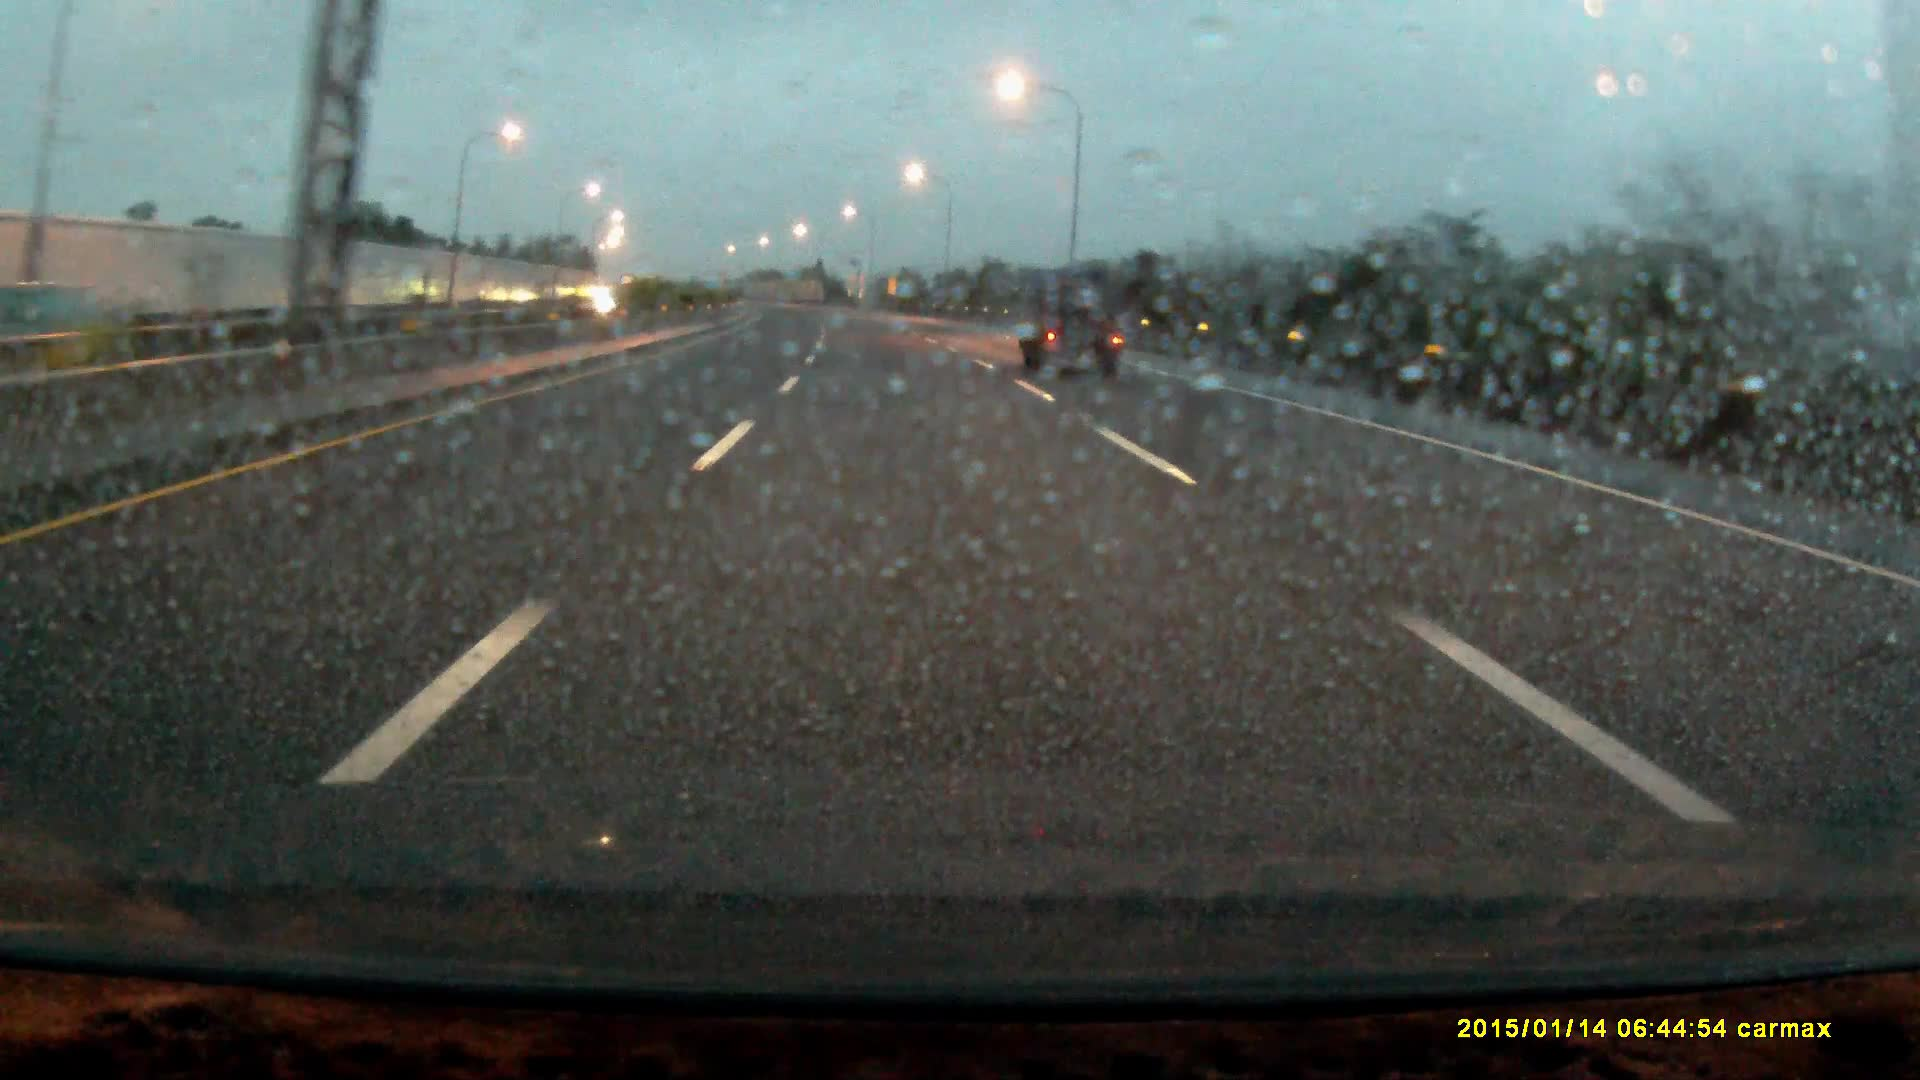vehicle: (1021, 274, 1126, 377), (560, 281, 629, 316)
